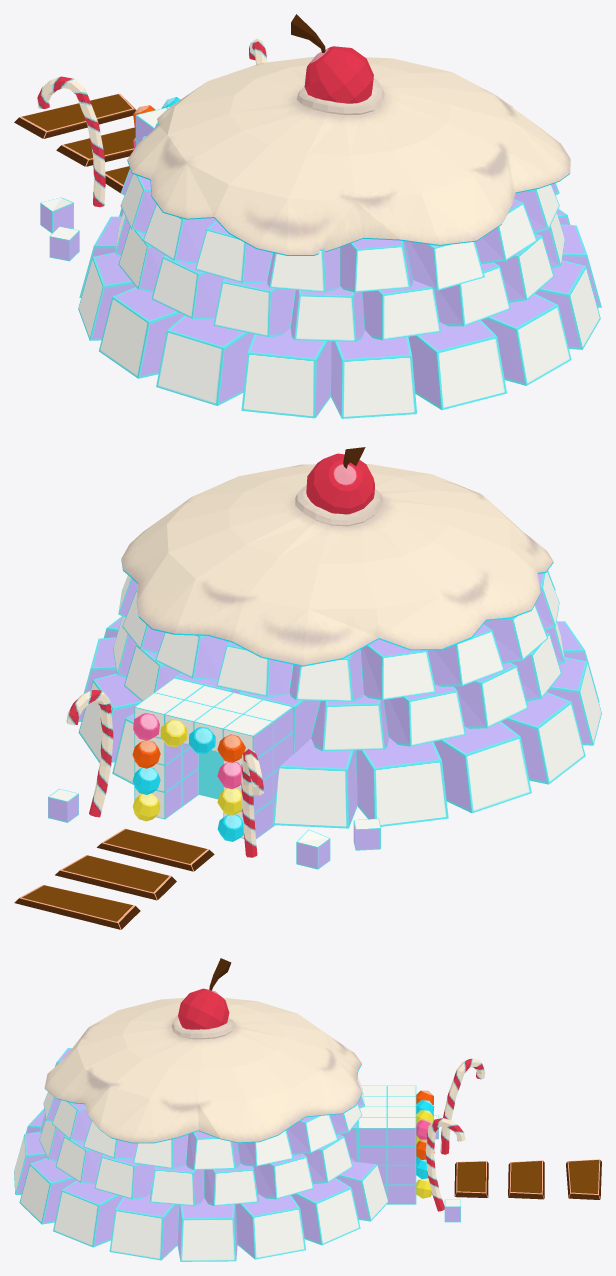
File: Igloo.glb
3 renders of one model, top to bottom at view 1: azimuth 30°, elevation 25°; view 2: azimuth 150°, elevation 25°; view 3: azimuth 270°, elevation 25°, orthographic. The views are drawn at different scales.
Parts seen in each view (by area): view 1: Igloo; view 2: Igloo; view 3: Igloo.
Boxes of the visible parts, box(x1,y1,x2,y2) form: Igloo: box(14, 14, 601, 418); Igloo: box(14, 447, 601, 929); Igloo: box(14, 958, 601, 1261).
Size of the model in its own units: 0.2014 by 0.1238 by 0.3112.
1 material, 1 textured.
